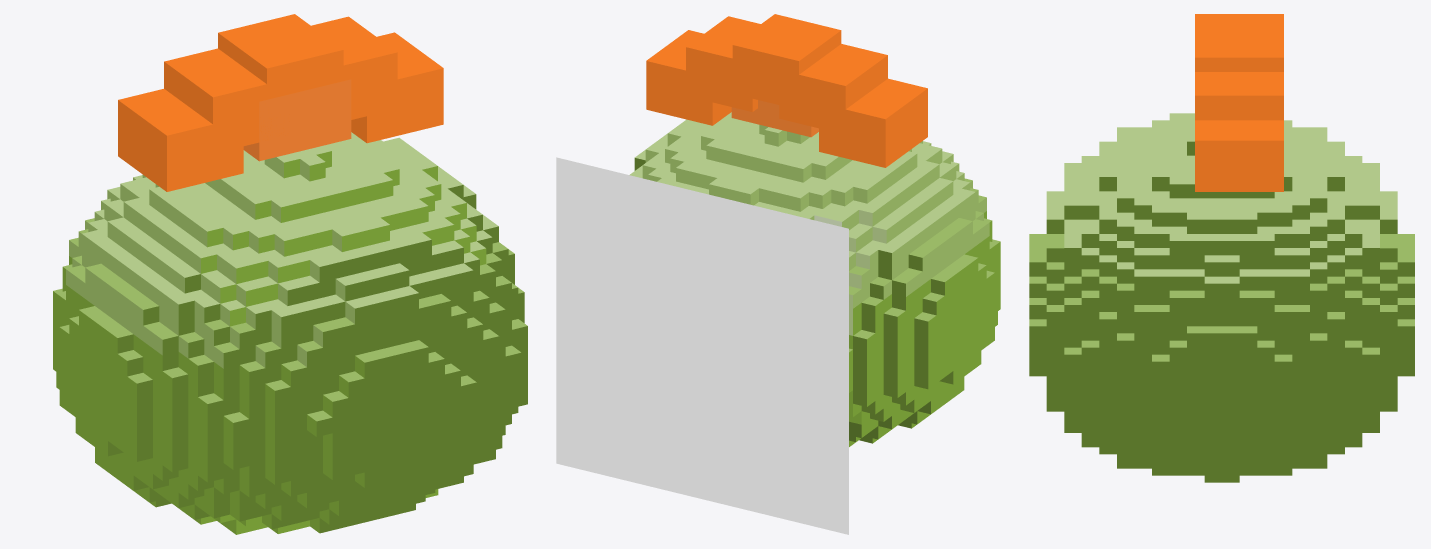
File: slime_dendro_large.glb
The picture shows the model from 3 angles, left to right: view 1: azimuth 30°, elevation 25°; view 2: azimuth 150°, elevation 25°; view 3: azimuth 270°, elevation 25°; orthographic projection. The views are drawn at different scales.
Visible parts, largest first — view 1: Shell, ElementDetails; view 2: Face, Shell, ElementDetails; view 3: Shell, ElementDetails.
Part boxes in pixels (bbox=[...]): Shell: bbox=[53, 132, 527, 534]; ElementDetails: bbox=[118, 14, 443, 191]; Face: bbox=[556, 157, 848, 534]; Shell: bbox=[629, 112, 1000, 446]; ElementDetails: bbox=[646, 14, 927, 167]; Shell: bbox=[1029, 113, 1414, 482]; ElementDetails: bbox=[1195, 14, 1283, 191].
Size of the model in its own units: 1.9 by 2.18 by 1.83.
